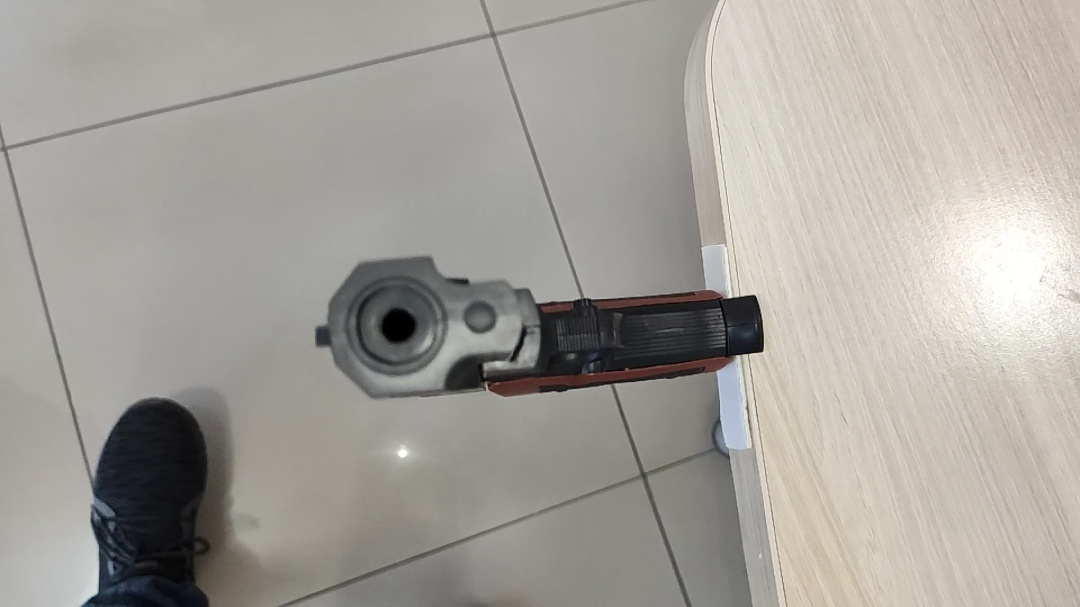gun: (605, 242, 651, 264)
